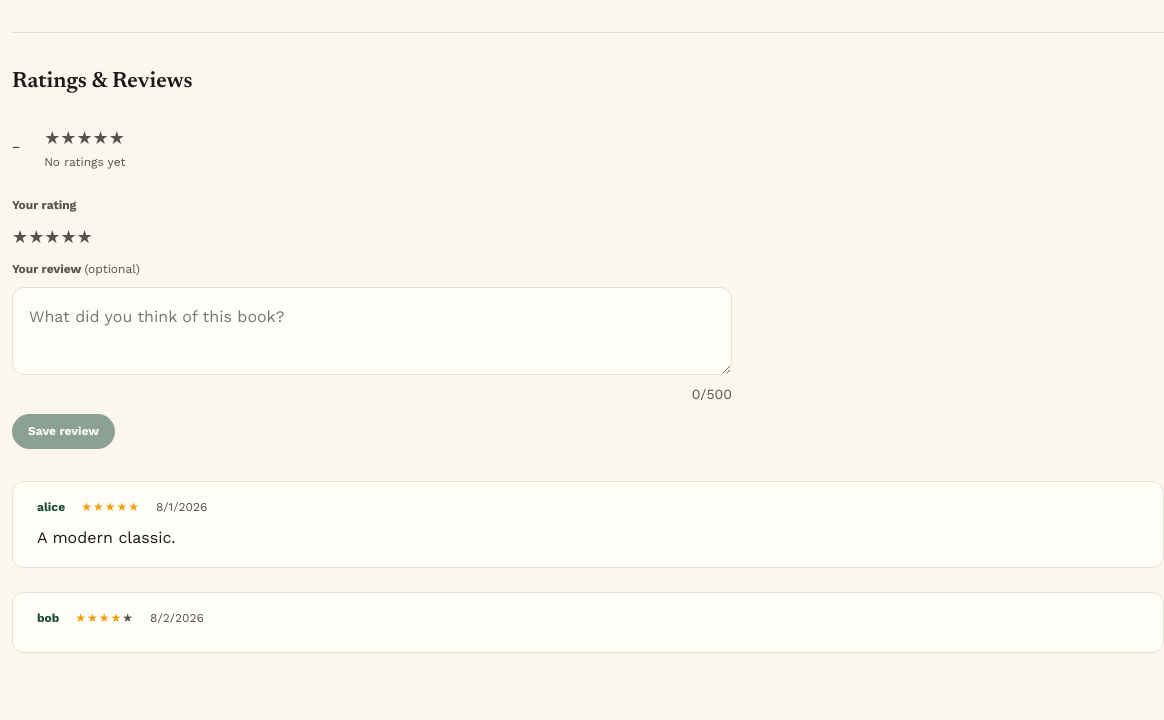
Scenario: StarRating — signed in › clicking a star saves the rating and refreshes stats
The width and height of the screenshot is (1164, 720).
Expected: the element showing "★ ★ ★ ★ ★" is shown, 12,223 -> 93,252
Click the radio button named "Rate 5 stars": (85, 238) 77,223 -> 93,252
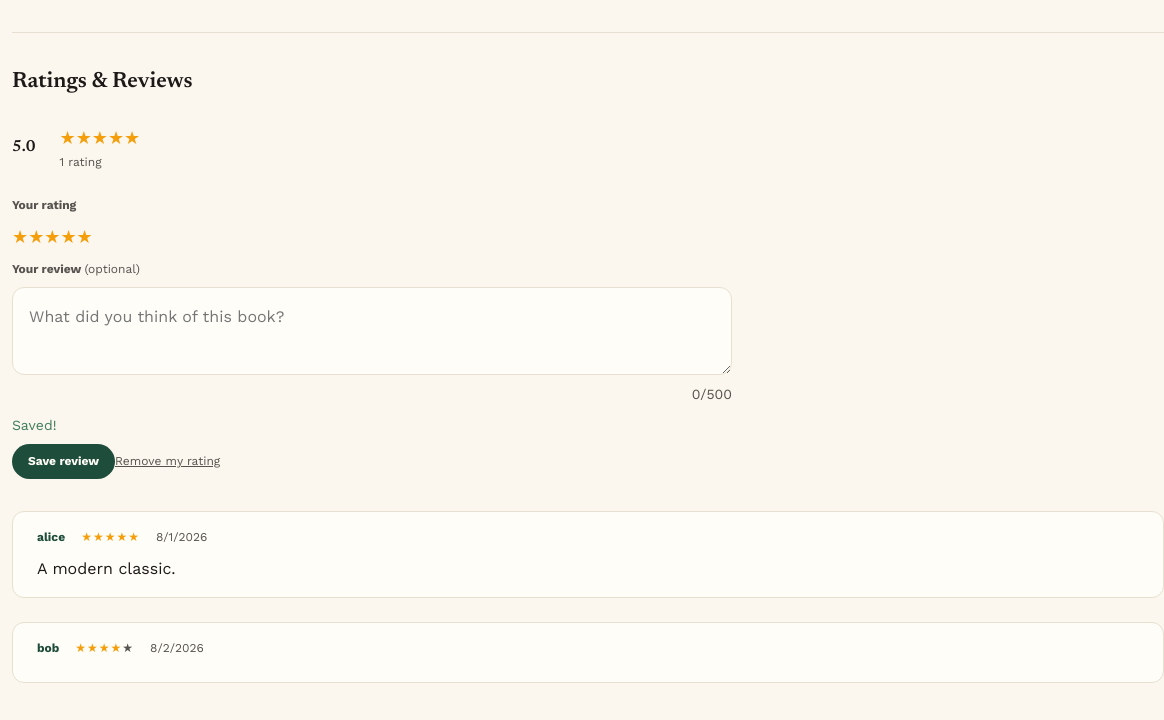
Now the text "5.0" is shown, box 12,135 -> 36,161
Now the text "Saved!" is shown, box 12,417 -> 56,433
